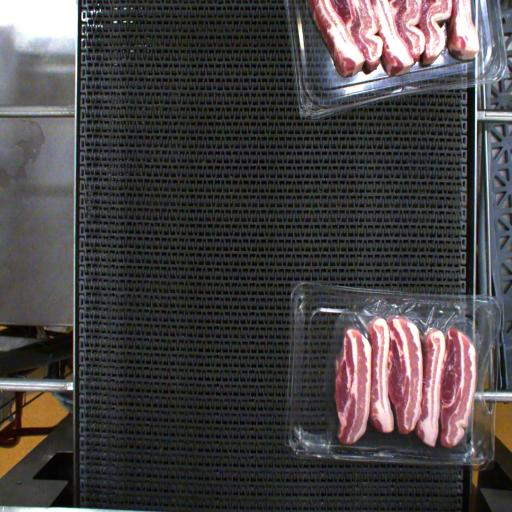unsealed: (322, 290, 494, 409)
